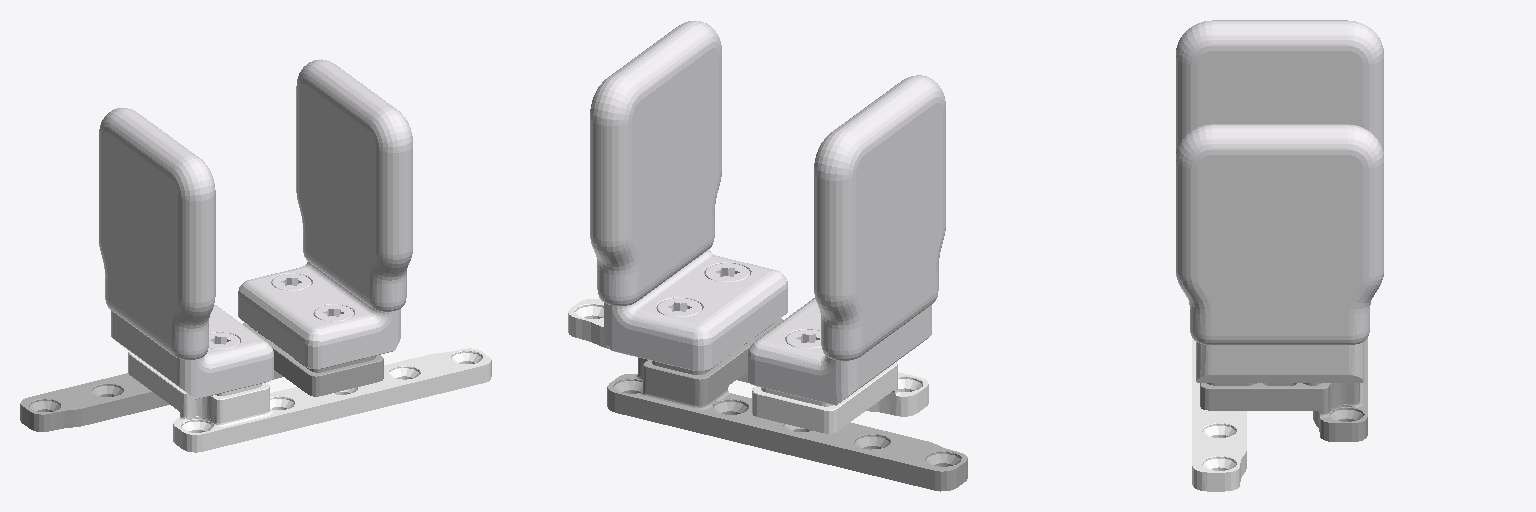
URDF robot description (onrobot_2fg7):
<?xml version="1.0" encoding="utf-8"?>
<!-- This URDF was automatically created by SolidWorks to URDF Exporter! Originally created by Stephen Brawner (brawner@gmail.com) 
     Commit Version: 1.6.0-4-g7f85cfe  Build Version: 1.6.7995.38578
     For more information, please see http://wiki.ros.org/sw_urdf_exporter -->
<robot
  name="onrobot_2fg7">
  <link
    name="base_link">
    <inertial>
      <origin
        xyz="-0.000250068281809191 -0.000120249294815739 0.0604924064083801"
        rpy="0 0 0" />
      <mass
        value="1.01367380846164" />
      <inertia
        ixx="0.000795915432608799"
        ixy="-9.38022824934476E-08"
        ixz="4.67926592198595E-07"
        iyy="0.00105686067057979"
        iyz="-2.27483342631346E-07"
        izz="0.000969771607586708" />
    </inertial>
    <visual>
      <origin
        xyz="0 0 0"
        rpy="0 0 0" />
      <geometry>
        <mesh
          filename="package://onrobot_2fg7/meshes/base_link.STL" />
      </geometry>
      <material
        name="">
        <color
          rgba="0.752941176470588 0.752941176470588 0.752941176470588 1" />
      </material>
    </visual>
    <collision>
      <origin
        xyz="0 0 0"
        rpy="0 0 0" />
      <geometry>
        <mesh
          filename="package://onrobot_2fg7/meshes/base_link.STL" />
      </geometry>
    </collision>
  </link>
  <link
    name="left_finger_base_link">
    <inertial>
      <origin
        xyz="-0.00550328296085684 -0.00447185457977535 -0.00970698346711139"
        rpy="0 0 0" />
      <mass
        value="0.00892925116074971" />
      <inertia
        ixx="2.69775538975237E-06"
        ixy="-1.23118285874232E-07"
        ixz="-2.38478085951737E-07"
        iyy="2.27015294291925E-06"
        iyz="-4.67205230900068E-07"
        izz="5.82712263180963E-07" />
    </inertial>
    <visual>
      <origin
        xyz="0 0 0"
        rpy="0 0 0" />
      <geometry>
        <mesh
          filename="package://onrobot_2fg7/meshes/finger_base_link.STL" />
      </geometry>
      <material
        name="">
        <color
          rgba="0.752941176470588 0.752941176470588 0.752941176470588 1" />
      </material>
    </visual>
    <collision>
      <origin
        xyz="0 0 0"
        rpy="0 0 0" />
      <geometry>
        <mesh
          filename="package://onrobot_2fg7/meshes/finger_base_link.STL" />
      </geometry>
    </collision>
  </link>
  <joint
    name="left_finger_base_joint"
    type="prismatic">
    <origin
      xyz="0.0115 0 0.11299"
      rpy="3.1416 -1.5708 0" />
    <parent
      link="base_link" />
    <child
      link="left_finger_base_link" />
    <axis
      xyz="0 0 1" />
    <limit
      lower="0"
      upper="0.019"
      effort="140"
      velocity="0.45" />
  </joint>
  <link
    name="left_fingertip_link">
    <inertial>
      <origin
        xyz="0.0183615920325445 -2.11640405324973E-06 0.00586622571869662"
        rpy="0 0 0" />
      <mass
        value="0.0328042666854099" />
      <inertia
        ixx="2.83649048895101E-06"
        ixy="-1.25101536754435E-09"
        ixz="-8.61288327156891E-07"
        iyy="5.84747886673199E-06"
        iyz="5.58138778630447E-09"
        izz="7.46158195977564E-06" />
    </inertial>
    <visual>
      <origin
        xyz="0 0 0"
        rpy="0 0 0" />
      <geometry>
        <mesh
          filename="package://onrobot_2fg7/meshes/silicone_fingertip_link.STL" />
      </geometry>
      <material
        name="">
        <color
          rgba="0.956862745098039 0.949019607843137 0.96078431372549 1" />
      </material>
    </visual>
    <collision>
      <origin
        xyz="0 0 0"
        rpy="0 0 0" />
      <geometry>
        <mesh
          filename="package://onrobot_2fg7/meshes/silicone_fingertip_link.STL" />
      </geometry>
    </collision>
  </link>
  <joint
    name="left_fingertip_joint"
    type="fixed">
    <origin
      xyz="0 0 0"
      rpy="0 0 0" />
    <parent
      link="left_finger_base_link" />
    <child
      link="left_fingertip_link" />
    <axis
      xyz="0 0 0" />
  </joint>
  <link
    name="right_finger_base_link">
    <inertial>
      <origin
        xyz="0 0 0"
        rpy="0 0 0" />
      <mass
        value="0.00892925116074971" />
      <inertia
        ixx="2.69775538975237E-06"
        ixy="-1.23118285874232E-07"
        ixz="-2.38478085951736E-07"
        iyy="2.27015294291924E-06"
        iyz="-4.67205230900077E-07"
        izz="5.82712263180967E-07" />
    </inertial>
    <visual>
      <origin
        xyz="0 0 0"
        rpy="0 0 0" />
      <geometry>
        <mesh
          filename="package://onrobot_2fg7/meshes/finger_base_link.STL" />
      </geometry>
      <material
        name="">
        <color
          rgba="1 1 1 1" />
      </material>
    </visual>
    <collision>
      <origin
        xyz="0 0 0"
        rpy="0 0 0" />
      <geometry>
        <mesh
          filename="package://onrobot_2fg7/meshes/finger_base_link.STL" />
      </geometry>
    </collision>
  </link>
  <joint
    name="right_finger_base_joint"
    type="prismatic">
    <origin
      xyz="-0.0115 0 0.11299"
      rpy="0 -1.5708 0" />
    <parent
      link="base_link" />
    <child
      link="right_finger_base_link" />
    <axis
      xyz="0 0 1" />
    <limit
      lower="0"
      upper="0.019"
      effort="140"
      velocity="0.45" />
    <mimic
      joint="left_finger_base_joint"
      multiplier="1"
      offset="0" />
  </joint>
  <link
    name="right_fingertip_link">
    <inertial>
      <origin
        xyz="0.018362 -2.089E-06 0.0058662"
        rpy="0 0 0" />
      <mass
        value="0.032804" />
      <inertia
        ixx="2.8365E-06"
        ixy="-1.2394E-09"
        ixz="-8.6129E-07"
        iyy="5.8475E-06"
        iyz="5.5814E-09"
        izz="7.4616E-06" />
    </inertial>
    <visual>
      <origin
        xyz="0 0 0"
        rpy="0 0 0" />
      <geometry>
        <mesh
          filename="package://onrobot_2fg7/meshes/silicone_fingertip_link.STL" />
      </geometry>
      <material
        name="">
        <color
          rgba="0.95686 0.94902 0.96078 1" />
      </material>
    </visual>
    <collision>
      <origin
        xyz="0 0 0"
        rpy="0 0 0" />
      <geometry>
        <mesh
          filename="package://onrobot_2fg7/meshes/silicone_fingertip_link.STL" />
      </geometry>
    </collision>
  </link>
  <joint
    name="right_fingertip_joint"
    type="fixed">
    <origin
      xyz="0 0 0"
      rpy="0 0 0" />
    <parent
      link="right_finger_base_link" />
    <child
      link="right_fingertip_link" />
    <axis
      xyz="0 0 0" />
  </joint>
</robot>

--- Render facts (derived) ---
3 views of the same robot in one strip: view 1: azimuth 30°, elevation 25°; view 2: azimuth 150°, elevation 25°; view 3: azimuth 270°, elevation 25° (orthographic).
Robot: onrobot_2fg7 — 5 links, 4 joints (2 prismatic, 2 fixed); root link base_link; default pose: every joint at zero.
Visible links, largest first — view 1: left_fingertip_link, right_fingertip_link, right_finger_base_link, left_finger_base_link; view 2: left_fingertip_link, right_fingertip_link, left_finger_base_link, right_finger_base_link; view 3: left_fingertip_link, right_fingertip_link, left_finger_base_link, right_finger_base_link.
Boxes of the visible links, x1,y1,x2,y2 form: left_fingertip_link: [238, 59, 412, 369]; right_fingertip_link: [99, 108, 273, 399]; right_finger_base_link: [128, 348, 491, 452]; left_finger_base_link: [20, 322, 383, 431]; left_fingertip_link: [590, 21, 787, 371]; right_fingertip_link: [748, 75, 945, 405]; left_finger_base_link: [607, 318, 967, 491]; right_finger_base_link: [568, 299, 928, 433]; left_fingertip_link: [1176, 124, 1383, 382]; right_fingertip_link: [1176, 20, 1383, 151]; left_finger_base_link: [1200, 338, 1367, 441]; right_finger_base_link: [1192, 338, 1246, 491].
Size in the robot's own frame: 0.081 by 0.034 by 0.056 metres.
4 mesh visuals loaded from 3 distinct referenced files (2 binary STL); not drawn: 1 (reference not matched to a file when rendering).
